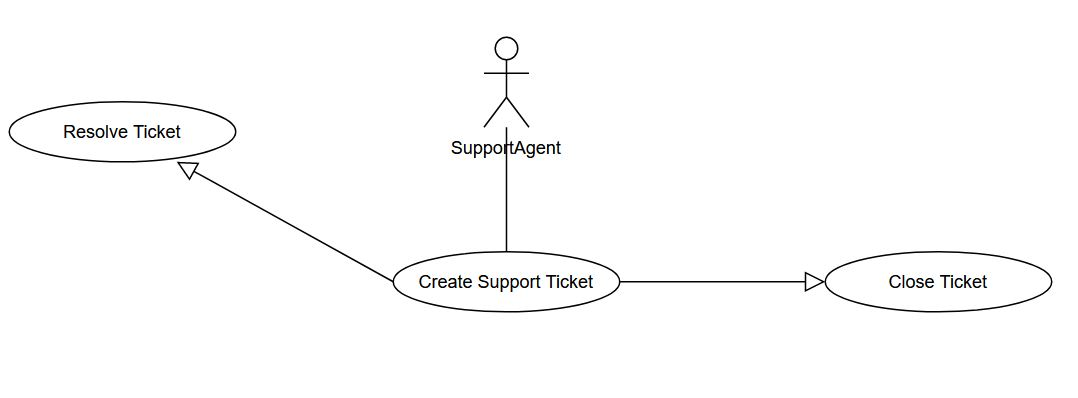actor: (481, 34, 533, 128)
association: (499, 130, 520, 250)
generalization: (176, 159, 394, 283), (619, 269, 824, 293)
text: (418, 270, 594, 295), (58, 117, 187, 146), (450, 139, 567, 159), (886, 272, 990, 294)
use_case: (392, 249, 622, 314), (825, 250, 1053, 315), (9, 101, 236, 165)
